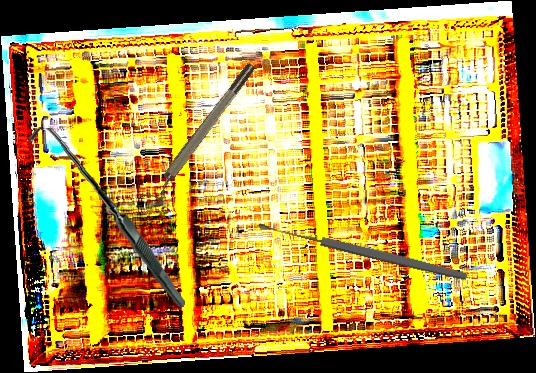Fixation Ring: (138, 60, 265, 212)
Hook Surgical: (20, 126, 194, 308)
Surgical Spoon: (256, 219, 470, 283)
